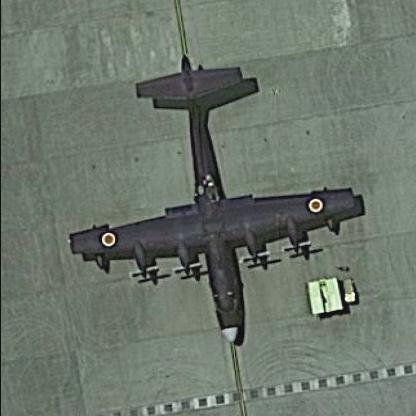Tu95: (67, 55, 354, 344)
